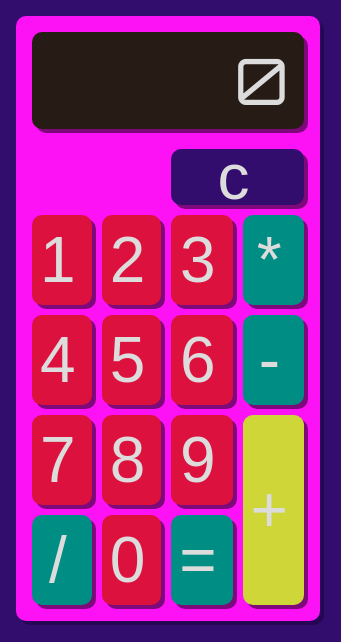
Calculator View › Deve adicionar os valores no display corretamente
The image size is (341, 642).
Click the button with test id "button-1": point(62, 260) [32, 214, 92, 304]
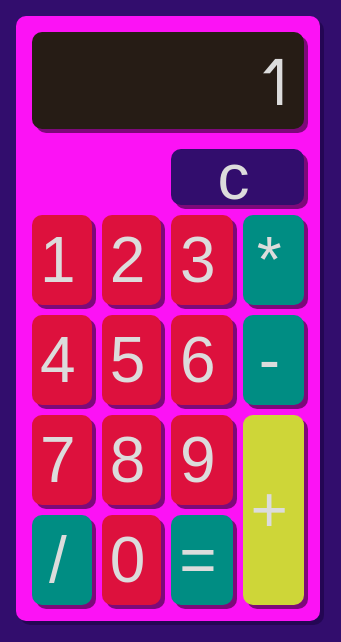
Click the button with test id "button-2": point(131, 260) [102, 214, 161, 304]
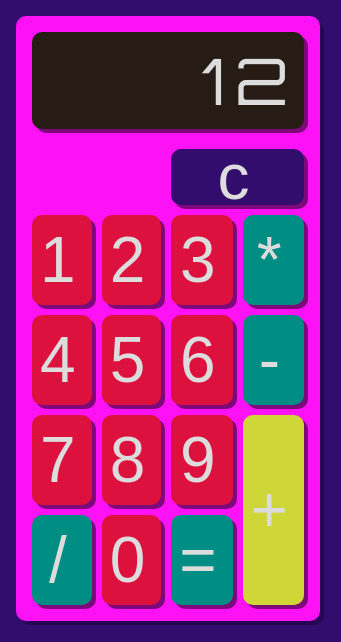
Expected: the text with test id "display" reads "12", [202, 40, 296, 120]
